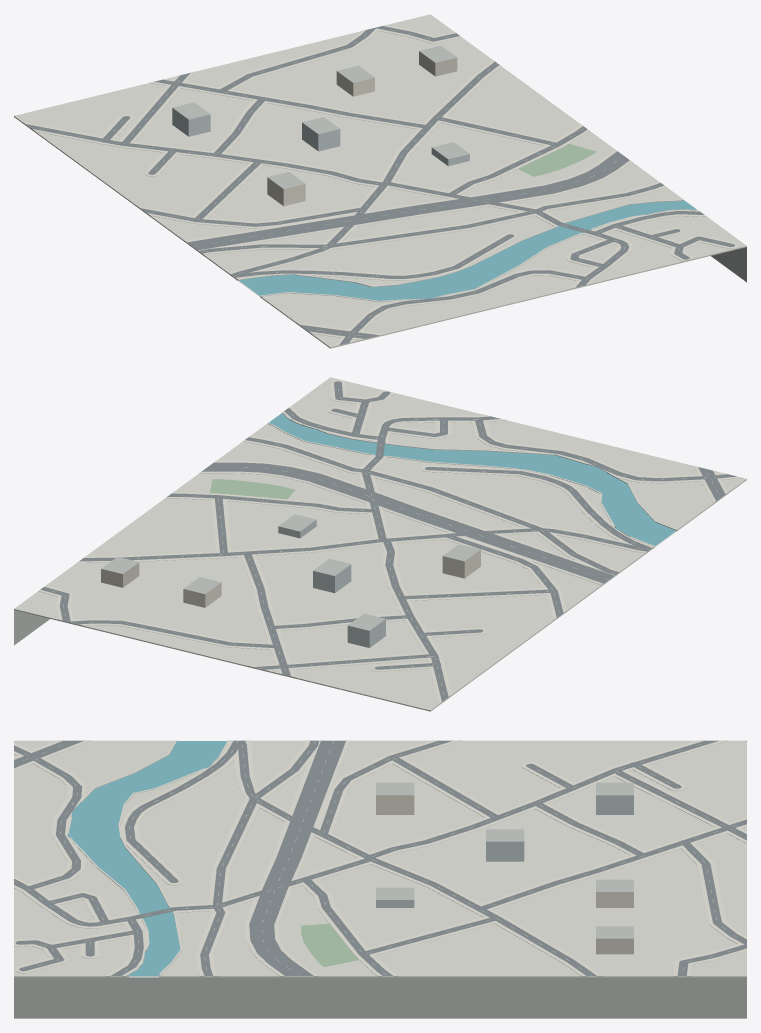
3 renders of one model, top to bottom at view 1: azimuth 30°, elevation 25°; view 2: azimuth 150°, elevation 25°; view 3: azimuth 270°, elevation 25°, orthographic. The views are drawn at different scales.
Visible parts, largest first — view 1: city; view 2: city; view 3: city.
Boxes of the visible parts, x1,y1,x2,y2 form: city: (14, 14, 746, 348); city: (14, 377, 746, 711); city: (14, 740, 746, 1018).
Size of the model in its own units: 380 by 47 by 500.
